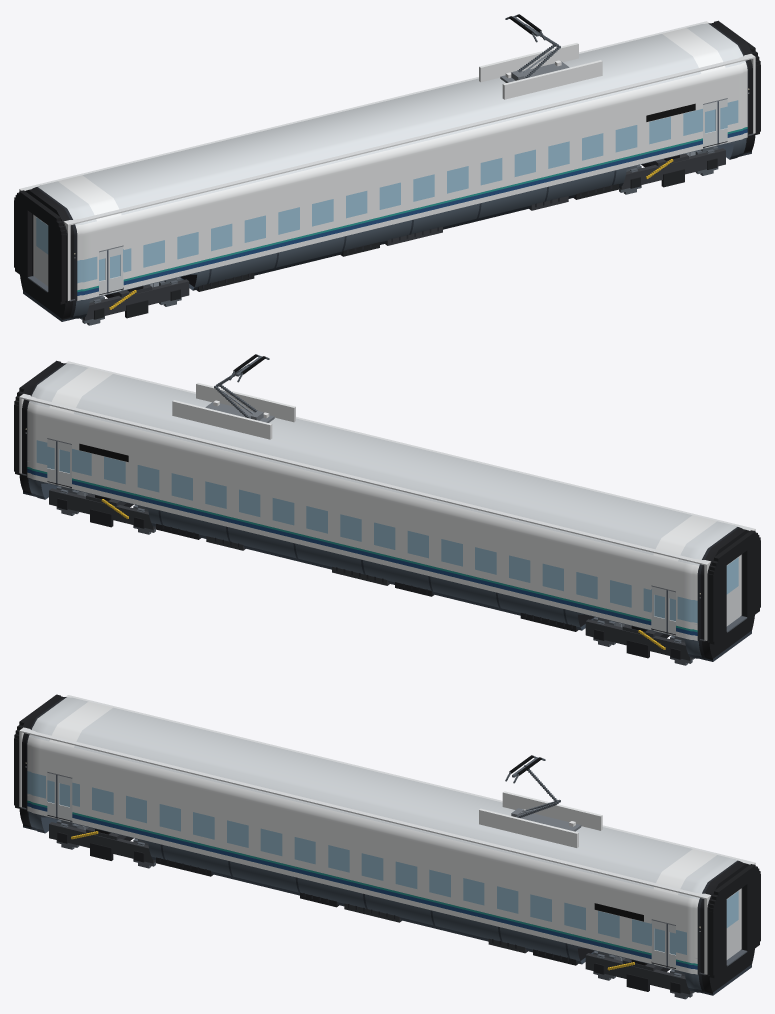
The model's file is ktx_sancheon_car.obj.
3 renders of one model, top to bottom at view 1: azimuth 30°, elevation 25°; view 2: azimuth 150°, elevation 25°; view 3: azimuth 330°, elevation 25°, orthographic.
Visible parts, largest first — view 1: SHELL, SHELL_ceiling, SHELL_pantograph, SHELL_diaphragm, BOGEY_REAR, BOGEY_FRONT, FRAME, CONNECTING_DOOR_1_CG_CR_TOGGLE_TL_0.98_Z, SHELL_end, EXTERNAL_DOOR_10_CG_DR2_TOGGLE_TL_-0.44_X, EXTERNAL_DOOR_5_CG_DR1_TOGGLE_TL_0.44_X; view 2: SHELL, SHELL_ceiling, SHELL_pantograph, SHELL_diaphragm, BOGEY_REAR, BOGEY_FRONT, FRAME, CONNECTING_DOOR_1_CG_CR_TOGGLE_TL_0.98_Z, SHELL_end, EXTERNAL_DOOR_13_CG_DL2_TOGGLE_TL_-0.44_X, EXTERNAL_DOOR_8_CG_DL1_TOGGLE_TL_0.44_X; view 3: SHELL, SHELL_ceiling, SHELL_pantograph, SHELL_diaphragm, BOGEY_FRONT, BOGEY_REAR, FRAME, CONNECTING_DOOR_2_CG_CF_TOGGLE_TL_0.98_Z, SHELL_end, EXTERNAL_DOOR_10_CG_DR2_TOGGLE_TL_-0.44_X, EXTERNAL_DOOR_5_CG_DR1_TOGGLE_TL_0.44_X.
Part boxes in pixels (x1,y1,x2,y2): SHELL: (20,21,756,321); SHELL_ceiling: (22,21,753,225); SHELL_pantograph: (479,14,602,99); SHELL_diaphragm: (14,20,760,304); BOGEY_REAR: (82,279,189,320); BOGEY_FRONT: (619,148,725,189); FRAME: (99,141,727,295); CONNECTING_DOOR_1_CG_CR_TOGGLE_TL_0.98_Z: (34,216,48,286); SHELL_end: (19,21,755,300); EXTERNAL_DOOR_10_CG_DR2_TOGGLE_TL_-0.44_X: (703,101,718,146); EXTERNAL_DOOR_5_CG_DR1_TOGGLE_TL_0.44_X: (108,246,122,291); SHELL: (18,361,754,661); SHELL_ceiling: (21,361,752,564); SHELL_pantograph: (172,354,295,439); SHELL_diaphragm: (14,360,760,644); BOGEY_REAR: (585,619,692,660); BOGEY_FRONT: (49,488,155,529); FRAME: (47,481,675,635); CONNECTING_DOOR_1_CG_CR_TOGGLE_TL_0.98_Z: (726,556,740,626); SHELL_end: (19,361,755,640); EXTERNAL_DOOR_13_CG_DL2_TOGGLE_TL_-0.44_X: (56,441,71,486); EXTERNAL_DOOR_8_CG_DL1_TOGGLE_TL_0.44_X: (652,586,666,631); SHELL: (18,695,754,995); SHELL_ceiling: (21,695,752,898); SHELL_pantograph: (479,755,602,847); SHELL_diaphragm: (14,694,760,978); BOGEY_FRONT: (585,953,692,994); BOGEY_REAR: (49,822,155,863); FRAME: (47,815,675,968); CONNECTING_DOOR_2_CG_CF_TOGGLE_TL_0.98_Z: (726,889,740,959); SHELL_end: (19,695,755,974); EXTERNAL_DOOR_10_CG_DR2_TOGGLE_TL_-0.44_X: (652,920,667,966); EXTERNAL_DOOR_5_CG_DR1_TOGGLE_TL_0.44_X: (57,775,72,820).
Size of the model in its own units: 22.82 by 5.68 by 2.92.
1 material, 1 textured.
